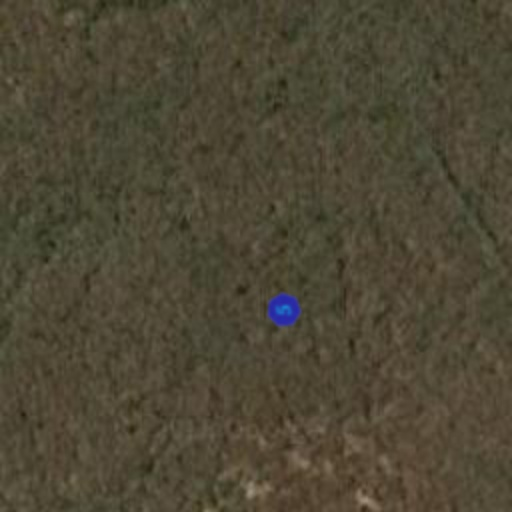heptagon: (264, 290, 304, 330)
